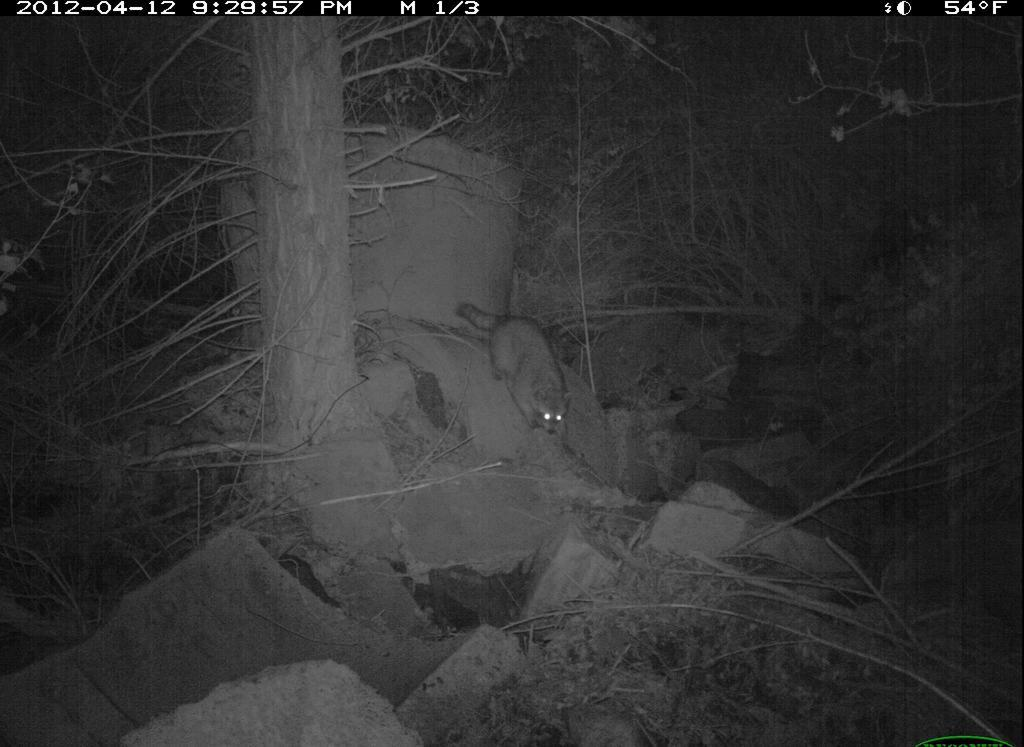raccoon: (455, 287, 578, 451)
